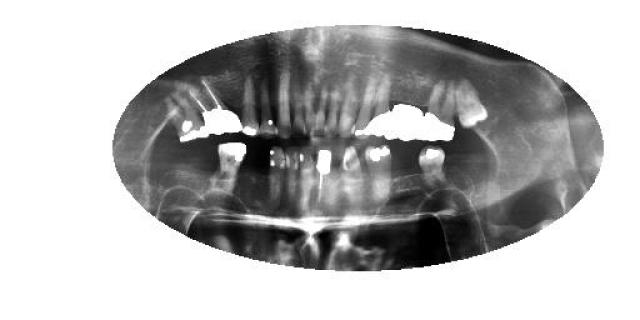Fillings: (424, 79, 456, 145), (210, 144, 249, 194), (165, 96, 206, 142), (369, 71, 396, 140), (365, 142, 394, 202), (238, 70, 262, 140), (350, 77, 375, 142), (418, 145, 448, 193), (390, 104, 425, 145)
Implant: (189, 79, 241, 136), (315, 146, 335, 206)
